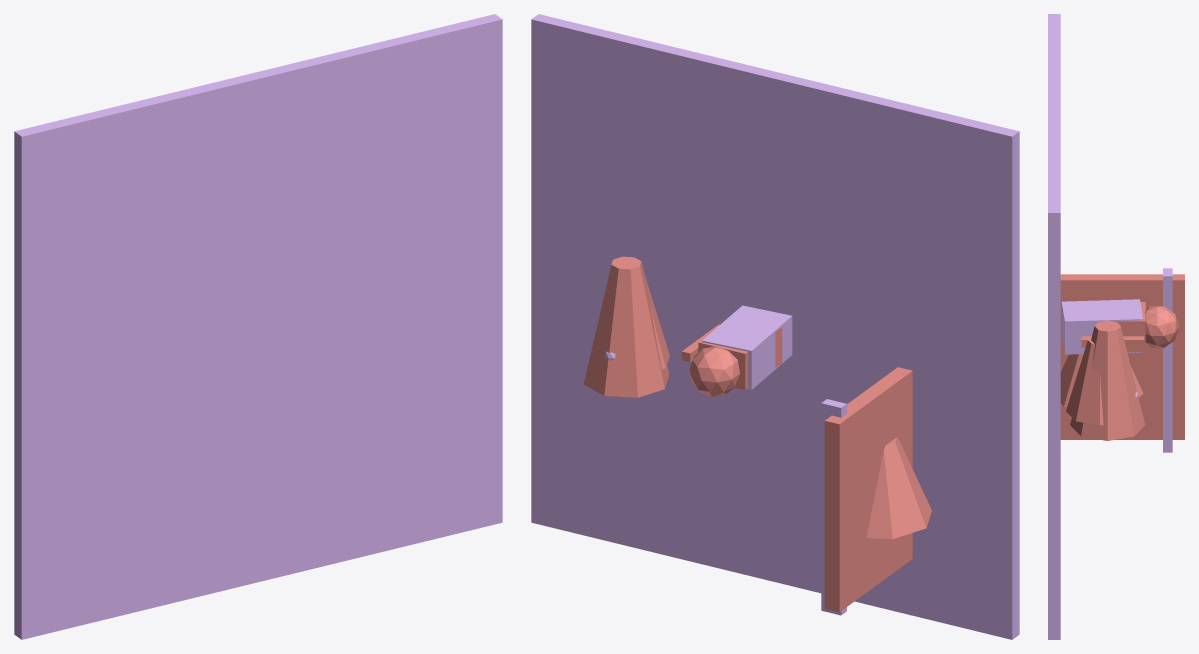
The model's file is dead-signal-kit.glb.
The picture shows the model from 3 angles, left to right: view 1: azimuth 30°, elevation 25°; view 2: azimuth 150°, elevation 25°; view 3: azimuth 270°, elevation 25°; orthographic projection. The views are drawn at different scales.
Visible parts, largest first — view 1: ENVIRONMENT_GROUND; view 2: ENVIRONMENT_GROUND, PROFILE_ENVIRONMENT_DETAIL, PROFILE_OBSTACLE_DETAIL, ENVIRONMENT_LANDMARK, PLAYER_BODY, PLAYER_HEAD, PROFILE_ENVIRONMENT_TRIM, PROFILE_PLAYER_DETAIL; view 3: ENVIRONMENT_GROUND, PROFILE_ENVIRONMENT_DETAIL, PROFILE_OBSTACLE_DETAIL, PLAYER_BODY, OBSTACLE, PROFILE_ENVIRONMENT_TRIM, PLAYER_HEAD, ENVIRONMENT_LANDMARK, PROFILE_PLAYER_DETAIL, PLAYER_TOOL.
Part boxes in pixels (box(x1,y1,x2,y2)): ENVIRONMENT_GROUND: box(14, 14, 502, 639); ENVIRONMENT_GROUND: box(531, 14, 1019, 639); PROFILE_ENVIRONMENT_DETAIL: box(824, 367, 912, 612); PROFILE_OBSTACLE_DETAIL: box(583, 256, 669, 397); ENVIRONMENT_LANDMARK: box(866, 437, 931, 539); PLAYER_BODY: box(702, 305, 792, 389); PLAYER_HEAD: box(689, 346, 739, 396); PROFILE_ENVIRONMENT_TRIM: box(821, 399, 846, 615); PROFILE_PLAYER_DETAIL: box(698, 326, 782, 389); ENVIRONMENT_GROUND: box(1048, 14, 1060, 639); PROFILE_ENVIRONMENT_DETAIL: box(1060, 274, 1184, 439); PROFILE_OBSTACLE_DETAIL: box(1070, 320, 1145, 440); PLAYER_BODY: box(1061, 299, 1143, 354); OBSTACLE: box(1066, 336, 1103, 425); PROFILE_ENVIRONMENT_TRIM: box(1163, 268, 1172, 452); PLAYER_HEAD: box(1145, 306, 1179, 347); ENVIRONMENT_LANDMARK: box(1060, 354, 1143, 406); PROFILE_PLAYER_DETAIL: box(1113, 302, 1145, 351); PLAYER_TOOL: box(1081, 336, 1144, 347).
Size of what is drawn, in the model's own units: 9 by 9 by 2.62.
